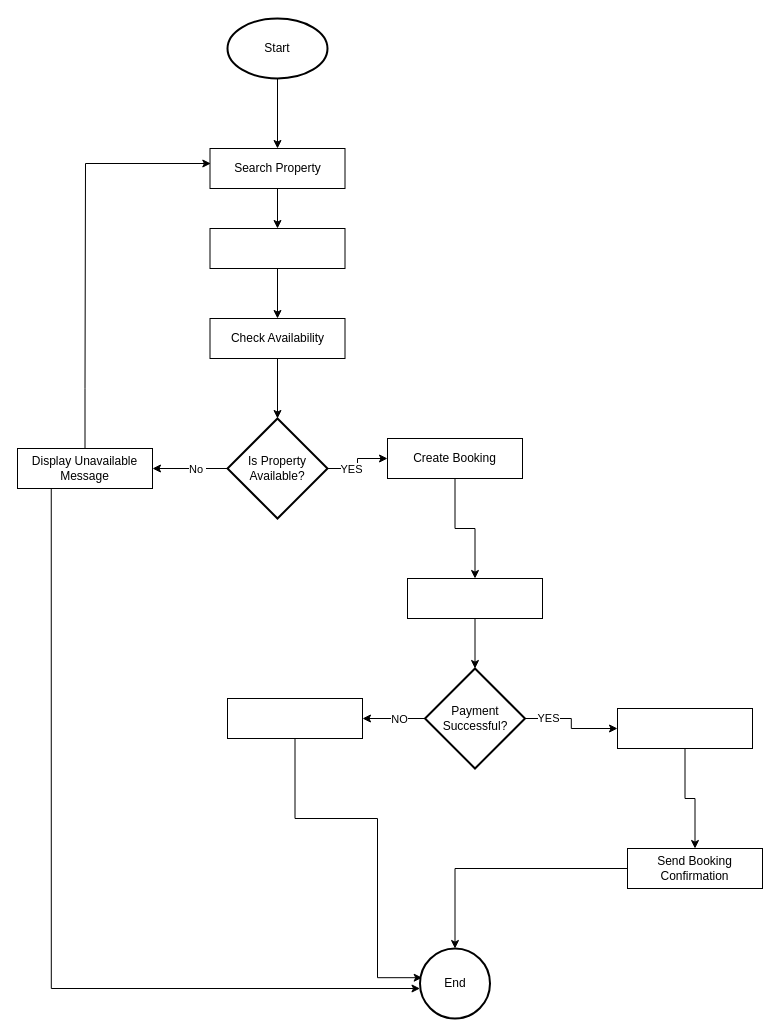
The diagram is 780 pixels wide and 1036 high, and some of its shapes have lost their labels. The box of each missing label's shape, as (x1, y1, x2, y2) in pixels:
Confirm Booking: (616, 708, 752, 748)
Display Payment Failure: (226, 698, 362, 738)
Process Payment: (406, 578, 542, 618)
Select Property and Dates: (209, 228, 345, 268)
